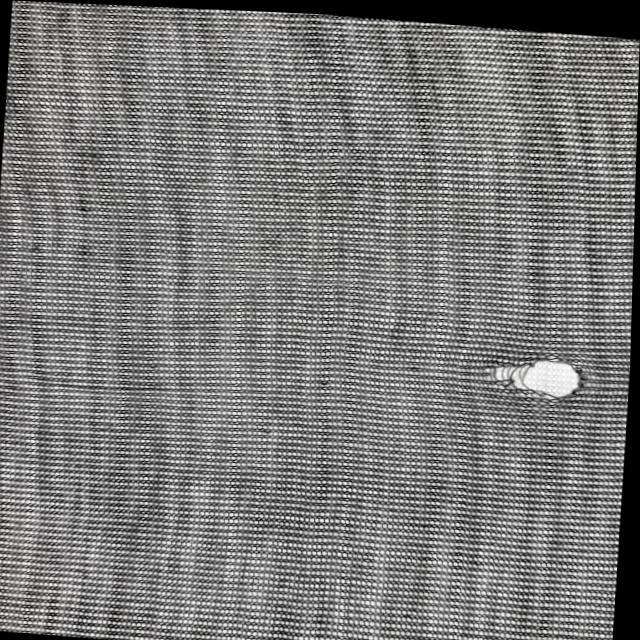Hole: (472, 335, 599, 410)
